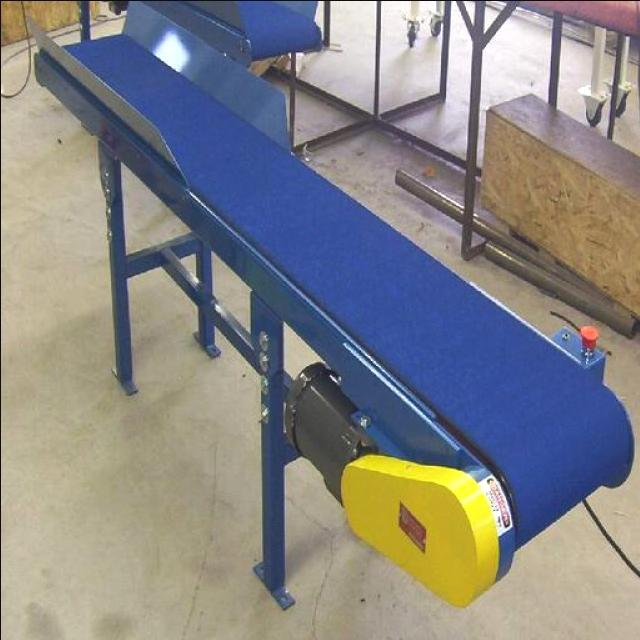conveyor: (50, 35, 629, 540)
